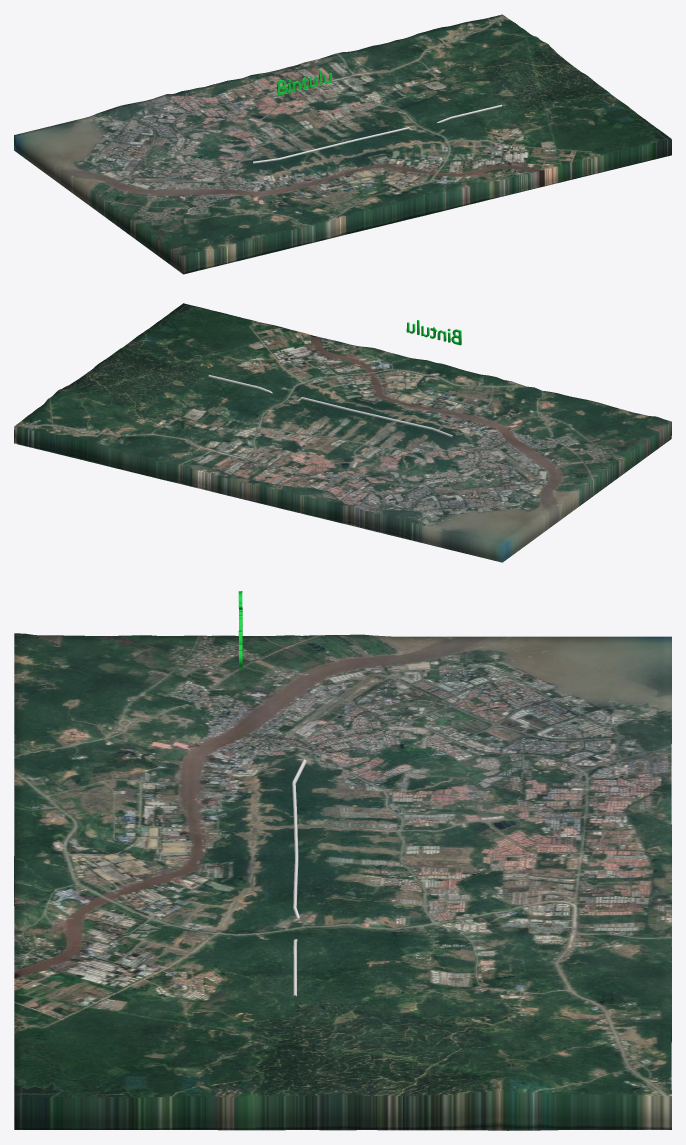
The picture shows the model from 3 angles, top to bottom: view 1: azimuth 30°, elevation 25°; view 2: azimuth 150°, elevation 25°; view 3: azimuth 270°, elevation 25°; orthographic projection. The views are drawn at different scales.
Parts seen in each view (by area): view 1: EXPORT_GOOGLE_SAT_WM, Cube, Text; view 2: EXPORT_GOOGLE_SAT_WM, Cube, Text; view 3: EXPORT_GOOGLE_SAT_WM, Cube.
Boxes of the visible parts, bbox=[...] form: EXPORT_GOOGLE_SAT_WM: bbox=[14, 14, 671, 274]; Cube: bbox=[253, 104, 501, 163]; Text: bbox=[277, 70, 331, 95]; EXPORT_GOOGLE_SAT_WM: bbox=[14, 303, 671, 562]; Cube: bbox=[208, 375, 452, 437]; Text: bbox=[406, 320, 461, 345]; EXPORT_GOOGLE_SAT_WM: bbox=[14, 633, 671, 1130]; Cube: bbox=[292, 759, 306, 996].
Size of the model in its own units: 12255 by 2712 by 7343.
2 materials, 1 textured.
